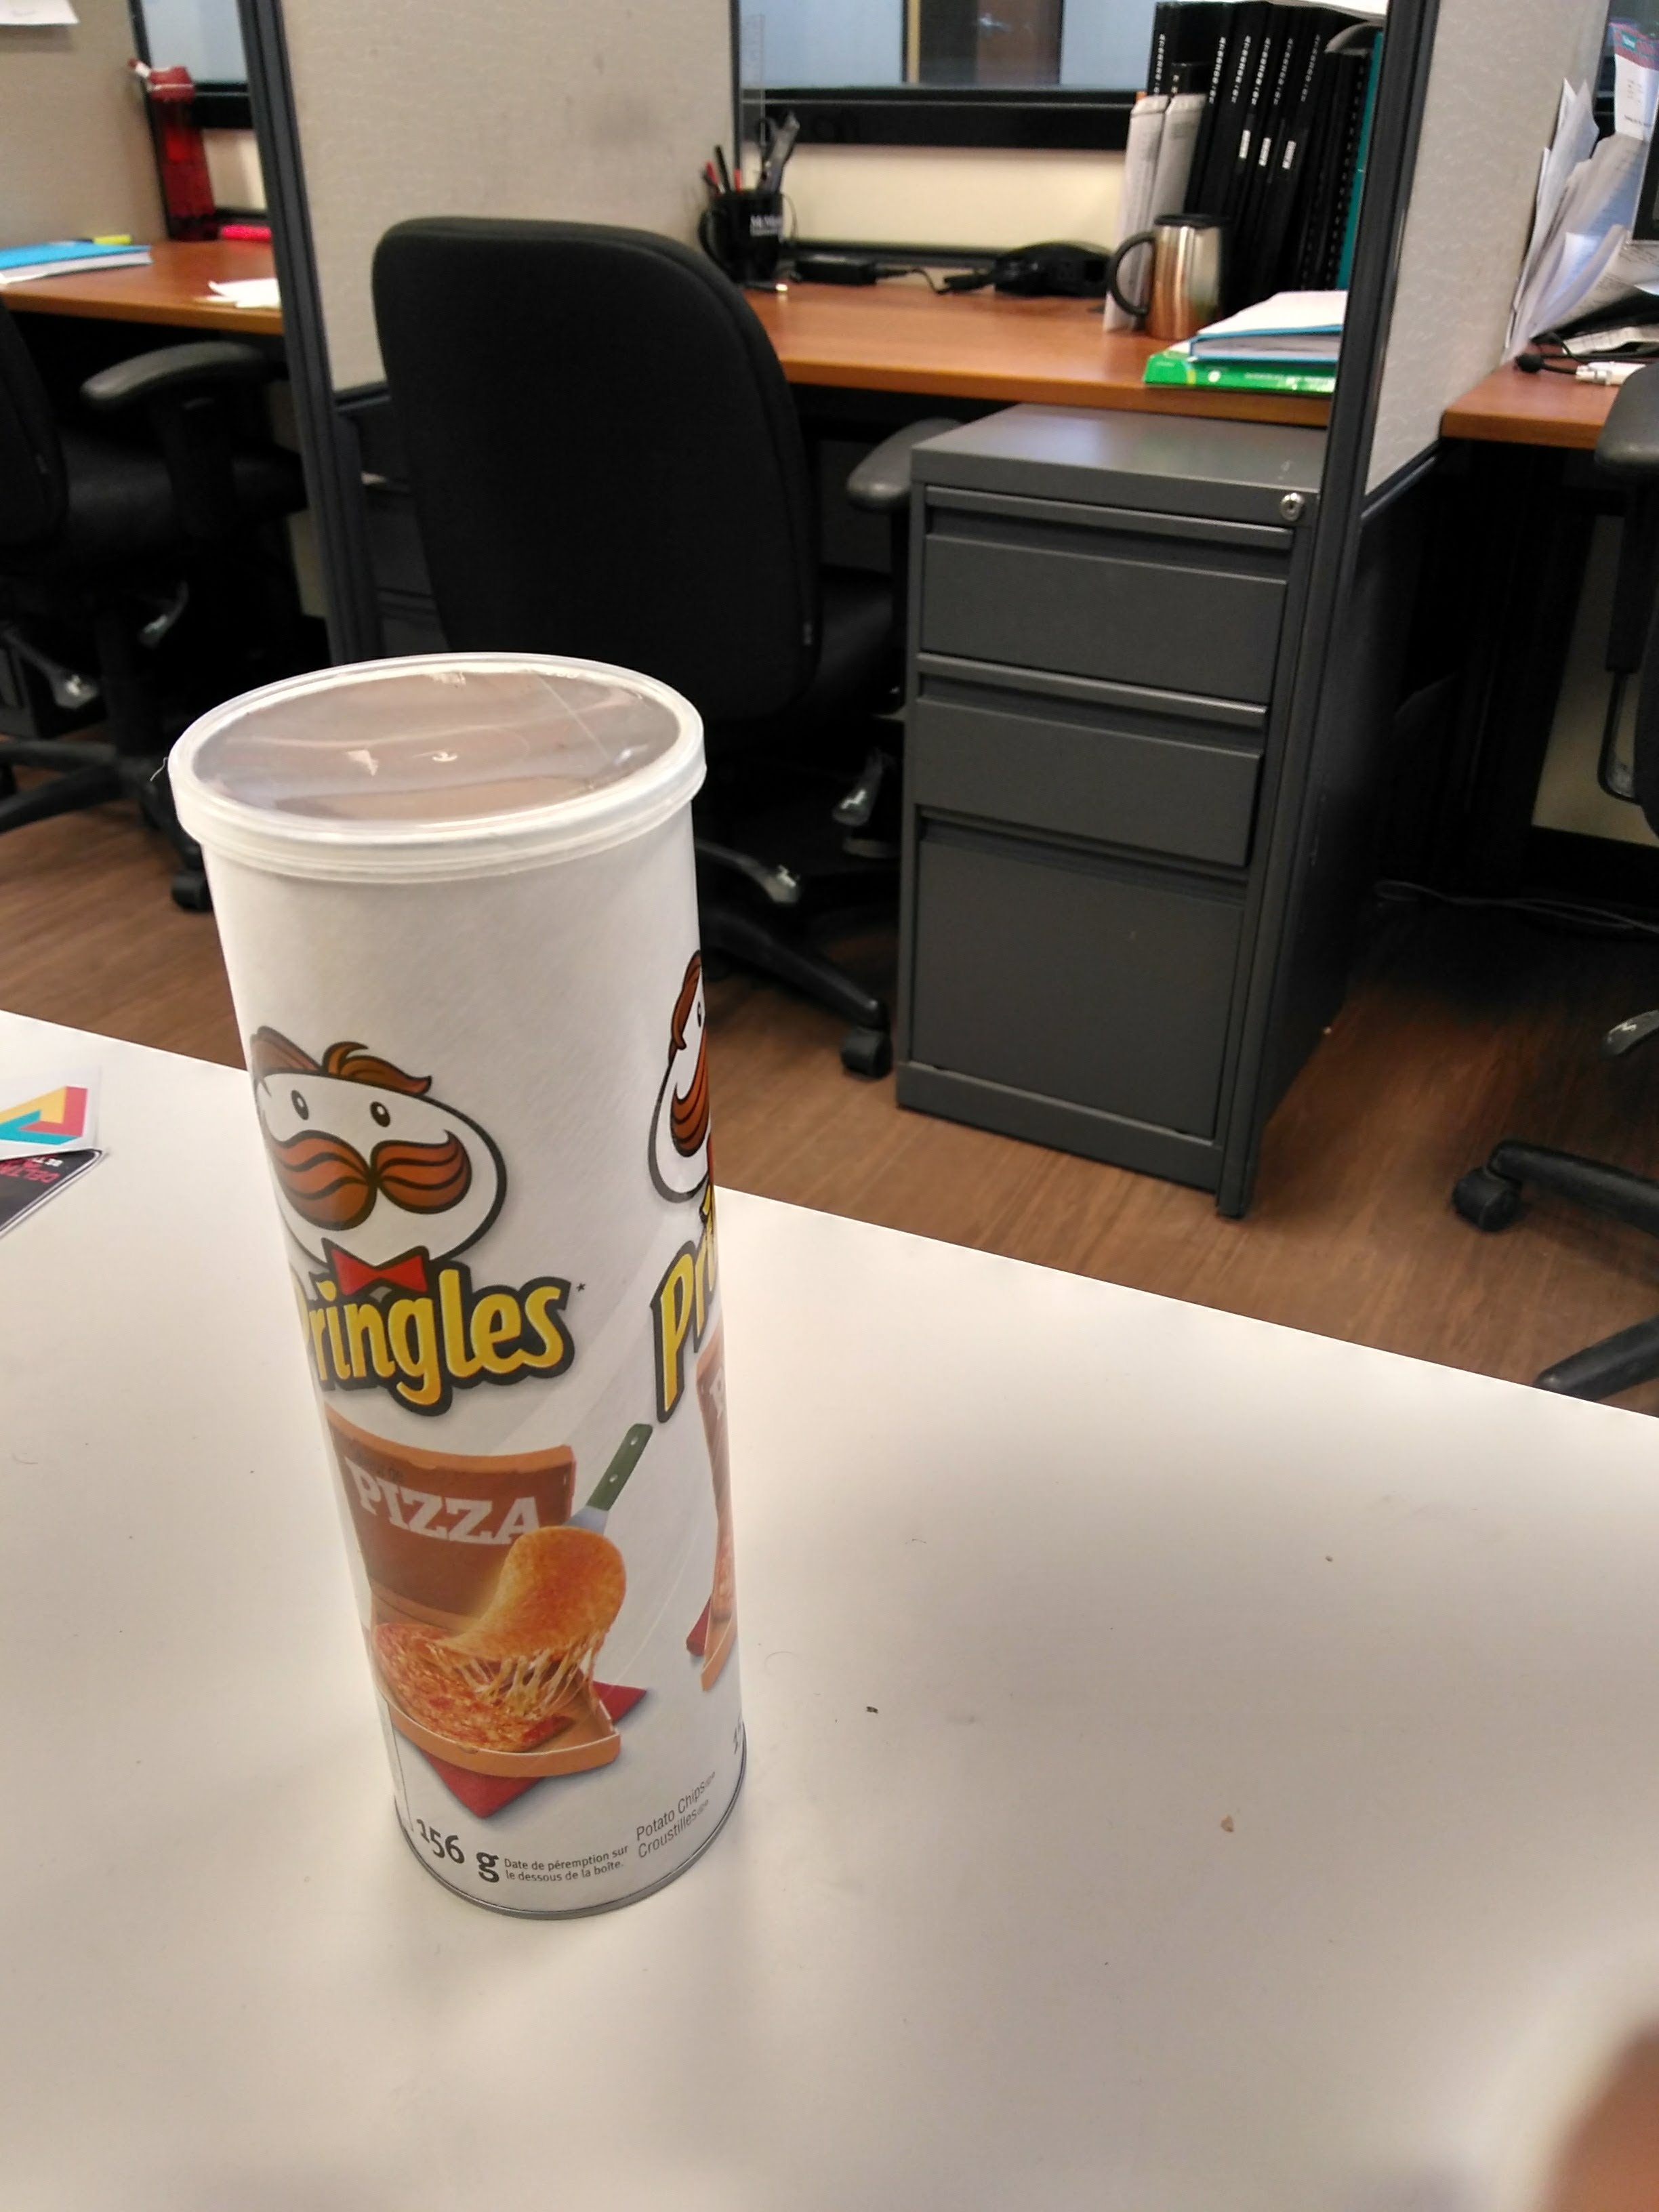pringles: (136, 641, 824, 1959)
